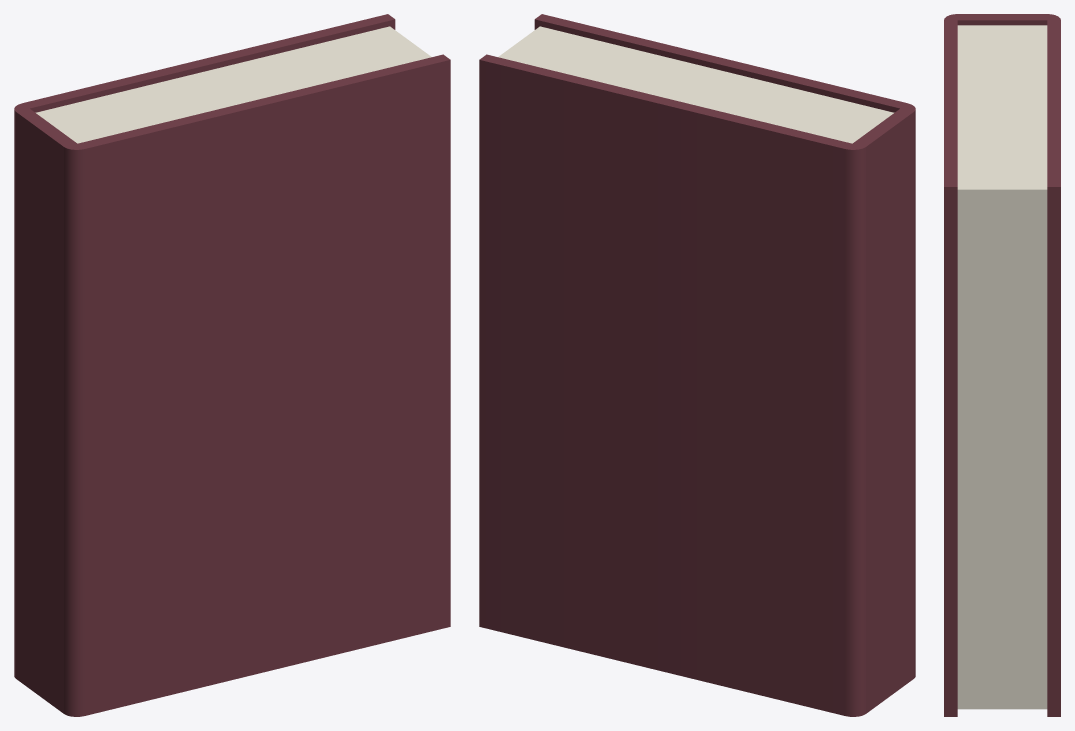
Rendered from book_bordeaux.fbx.
The picture shows the model from 3 angles, left to right: view 1: azimuth 30°, elevation 25°; view 2: azimuth 150°, elevation 25°; view 3: azimuth 270°, elevation 25°; orthographic projection. The views are drawn at different scales.
Parts seen in each view (by area): view 1: Cube, Cube.001; view 2: Cube, Cube.001; view 3: Cube.001, Cube.
Boxes of the visible parts, x1,y1,x2,y2 form: Cube: (14, 14, 450, 716); Cube.001: (35, 26, 431, 143); Cube: (479, 14, 915, 716); Cube.001: (498, 26, 894, 143); Cube.001: (957, 25, 1047, 709); Cube: (944, 14, 1060, 716).
Size of the model in its own units: 140 by 200 by 40.
